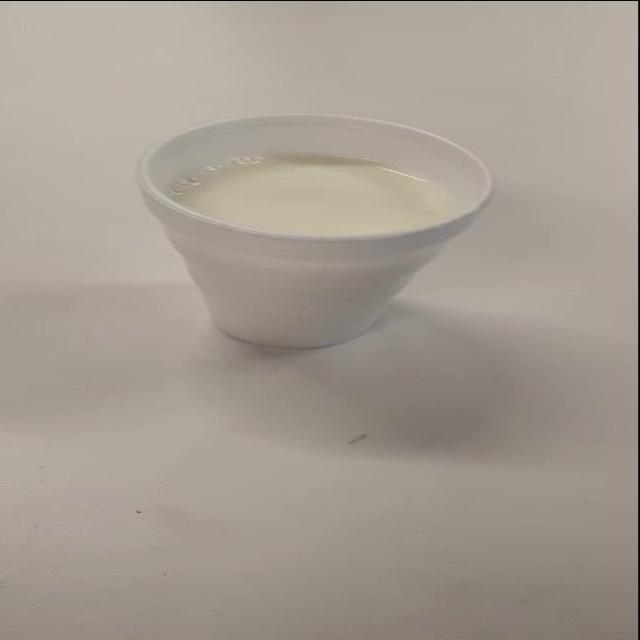milk: (73, 92, 510, 377)
